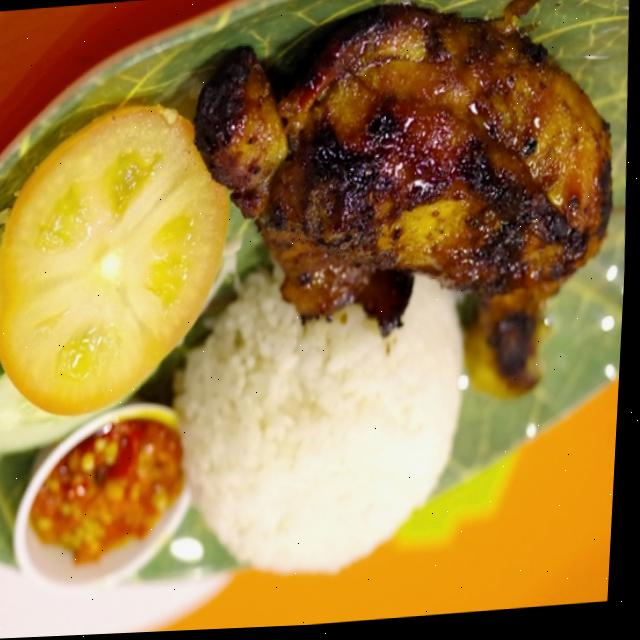鸡肉料理 含炸鸡: (0, 0, 626, 608)
